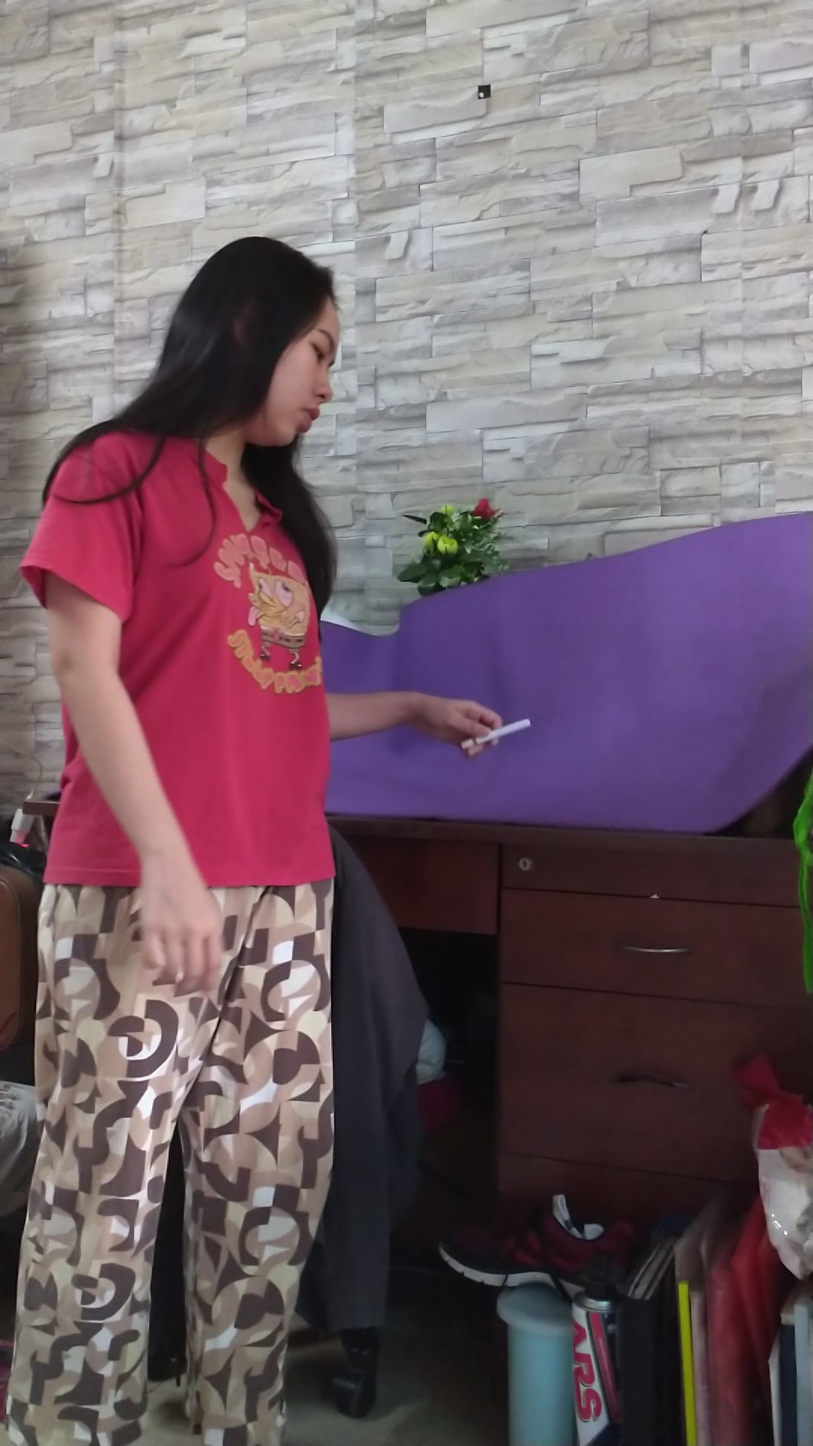cigarette: (485, 712, 536, 747)
person: (16, 203, 510, 1446)
